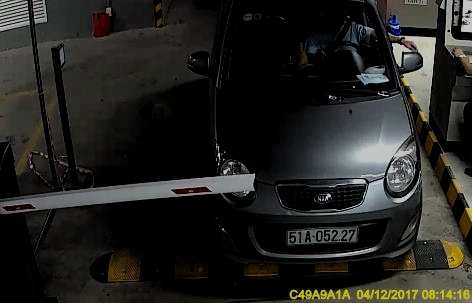plate: (284, 225, 358, 245)
